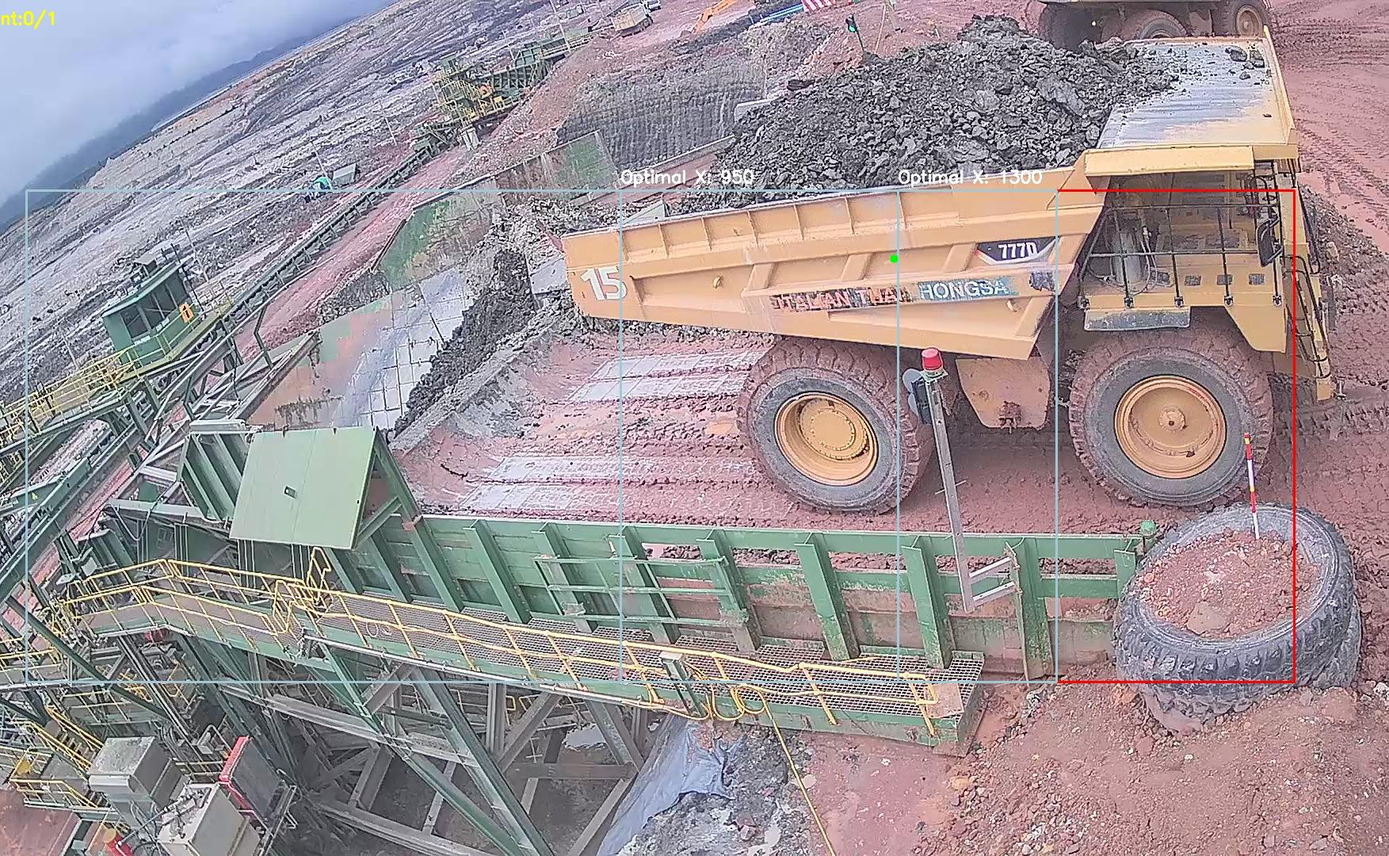company: (756, 275, 1024, 315)
full_load: (754, 20, 1089, 207)
mining_truck: (554, 9, 1345, 514)
tail_number: (573, 257, 640, 310)
truck_size: (970, 232, 1062, 262)
